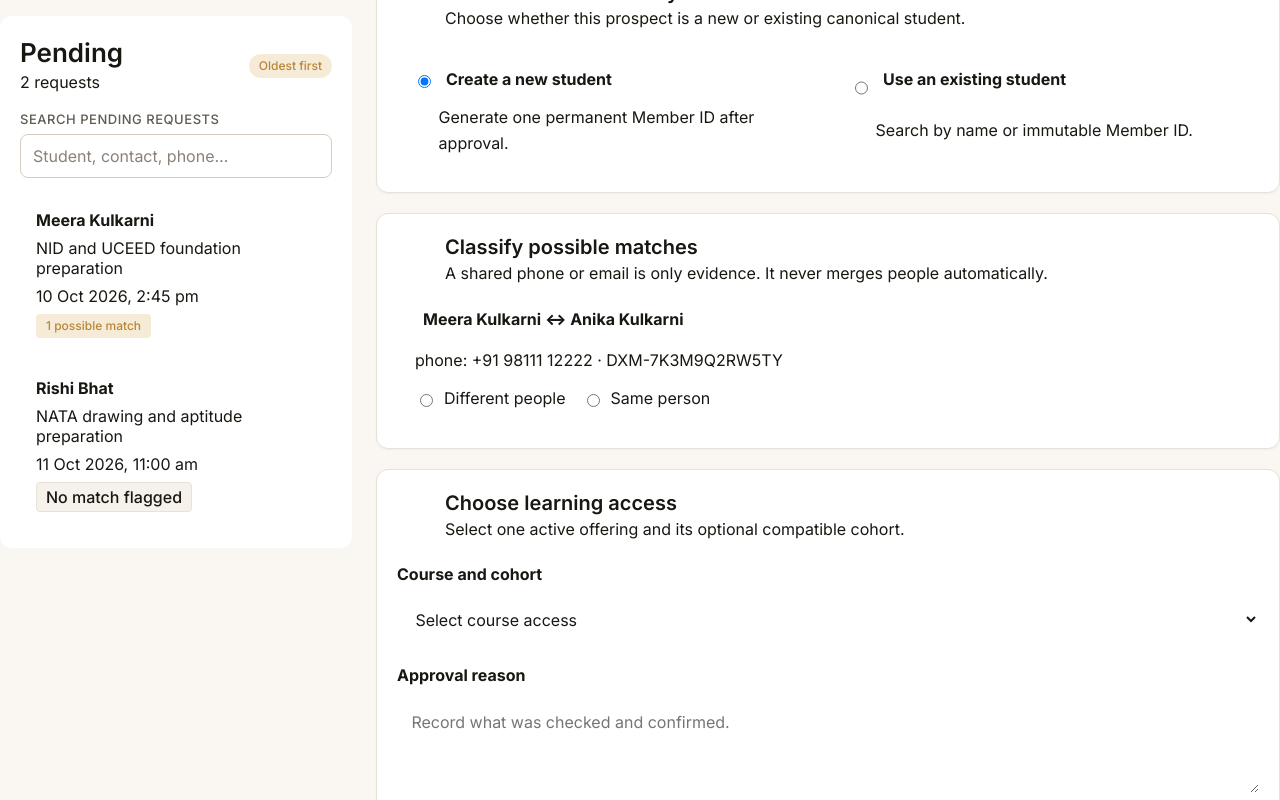
Scenario: EnrolmentHandoffPage › approves one new student only after identity, course, and reason are confirmed
(page scrolled)
Step 1. Click the radio button labelled "Different people" → (426, 400), box [420,394,433,407]
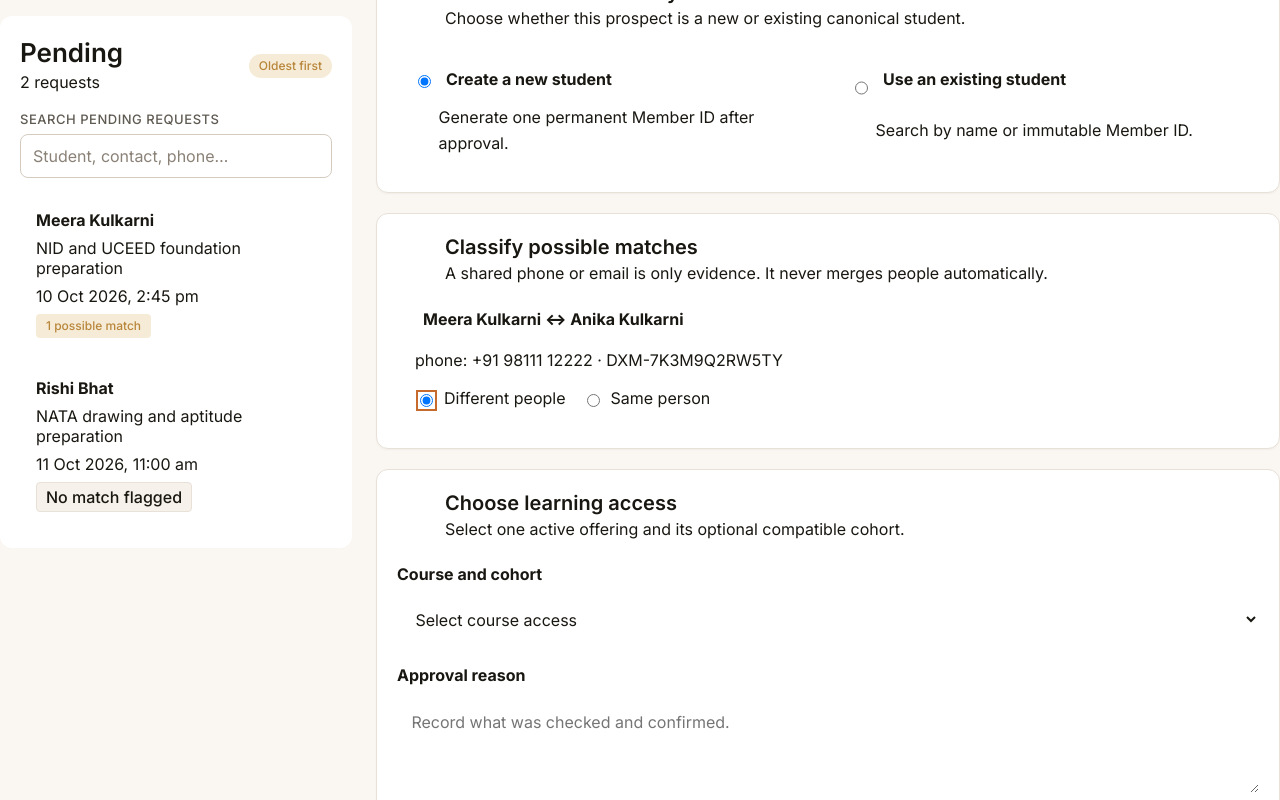
Step 2. Select "Design Entrance Foundation 2027 — Weekend Studio A" in the dropdown labelled "Course and cohort" → (828, 620), box [397,596,1259,643]
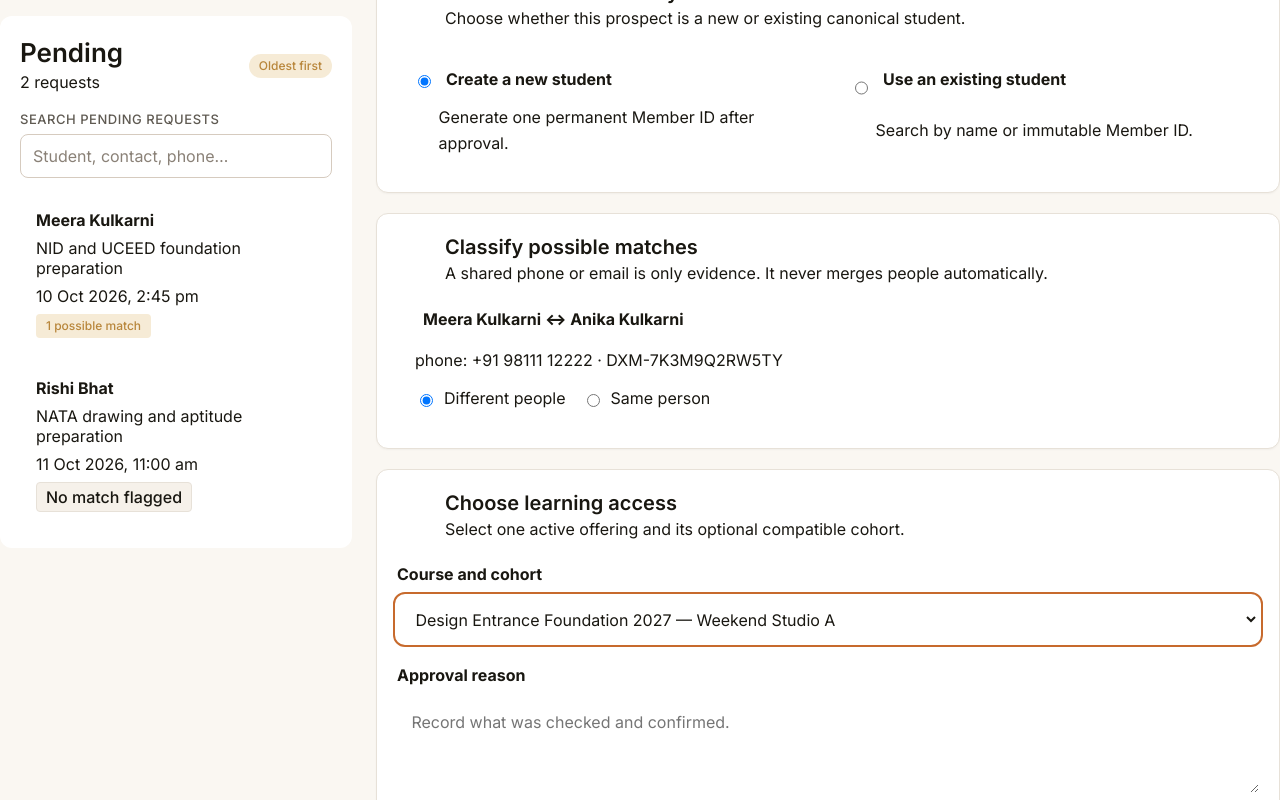
Step 3. Type "Identity and course confirmed." into the text box labelled "Approval reason" → (828, 745), box [397,697,1259,793]
(page scrolled)
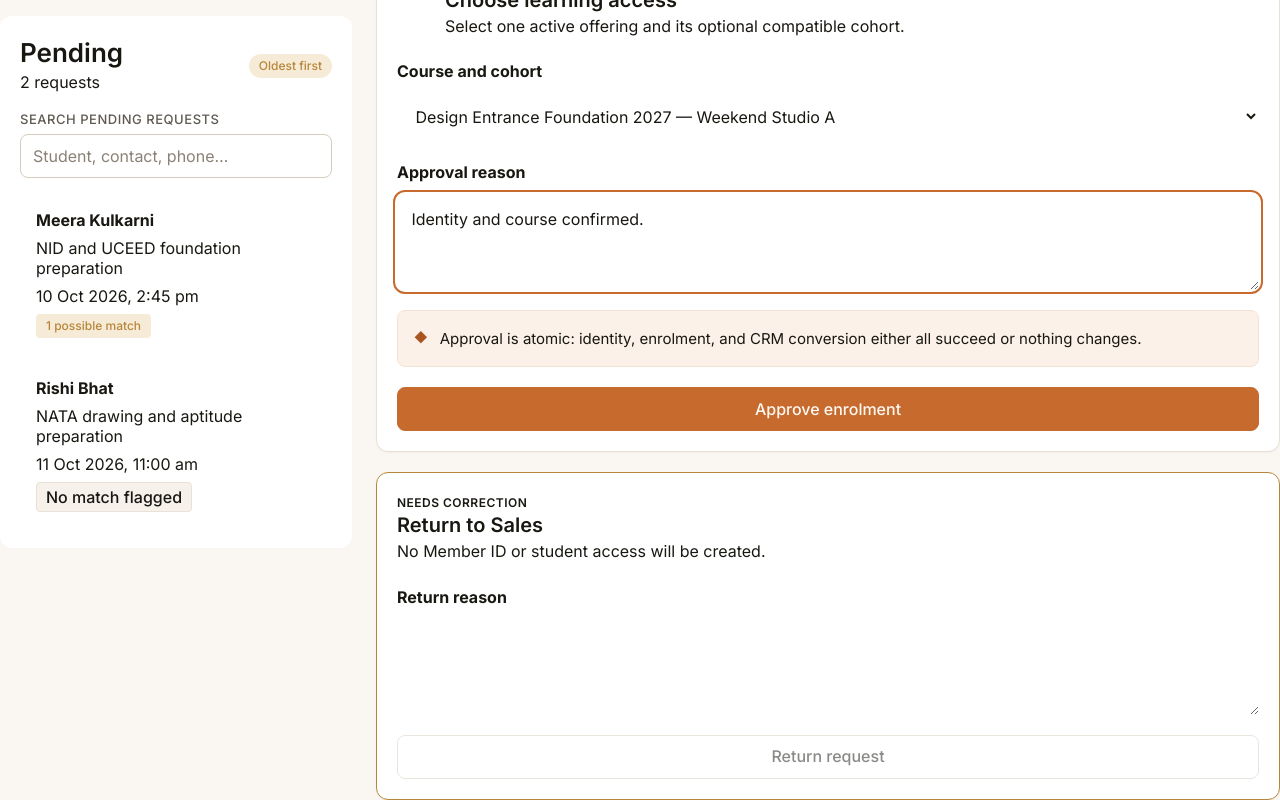
Step 4. Click the button "Approve enrolment" → (828, 409), box [397,387,1259,431]
(page scrolled)
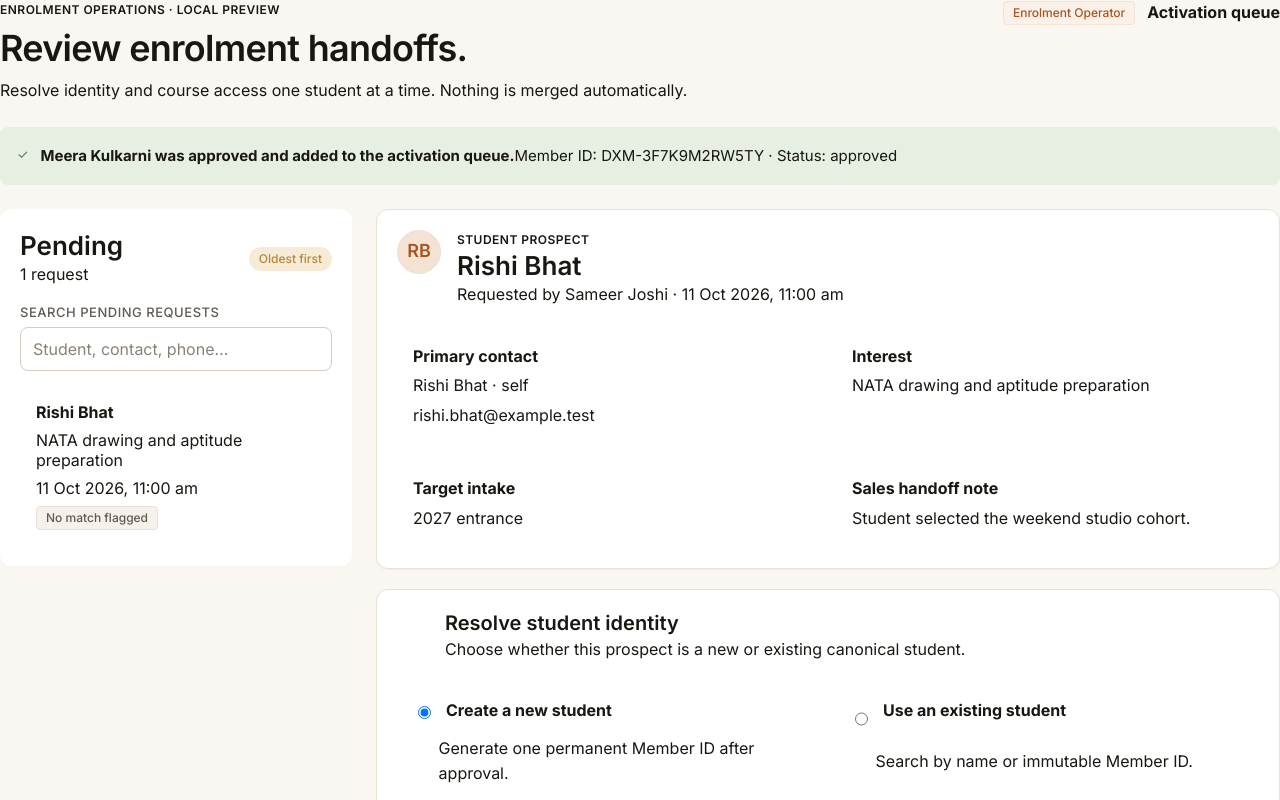
Expected: the text "added to the activation queue" is shown, [40,146,514,165]
Expected: the text "Member ID: DXM-3F7K9M2RW5TY · Status: approved" is shown, [514,146,897,165]
